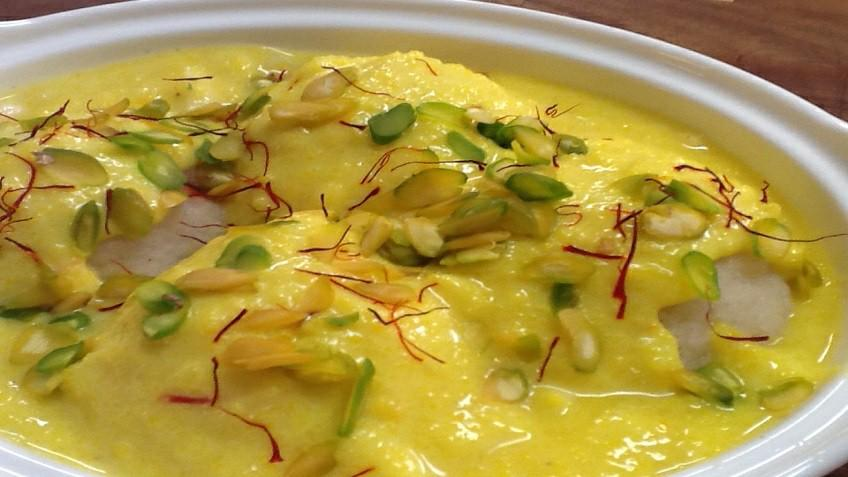RasMalai: (0, 40, 842, 477)
